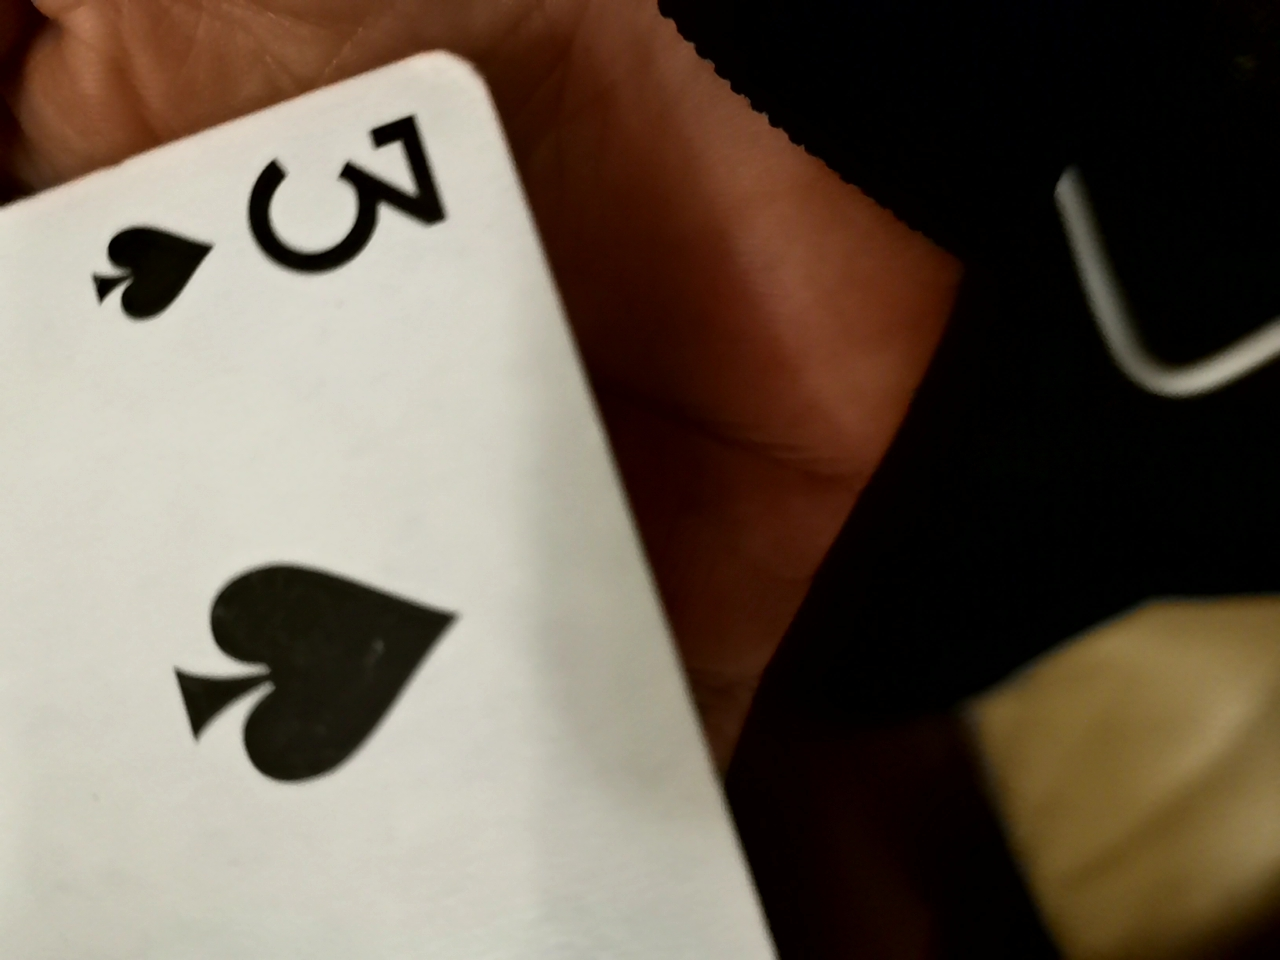ht 3: (1, 75, 682, 956)
